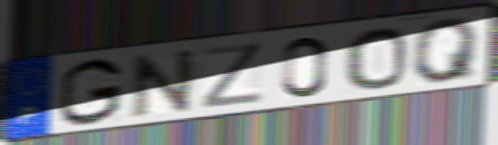0: (279, 35, 330, 100)
G: (57, 56, 126, 129)
N: (129, 46, 199, 121)
O: (342, 25, 410, 91)
Q: (410, 15, 484, 86)
Z: (199, 40, 267, 111)
